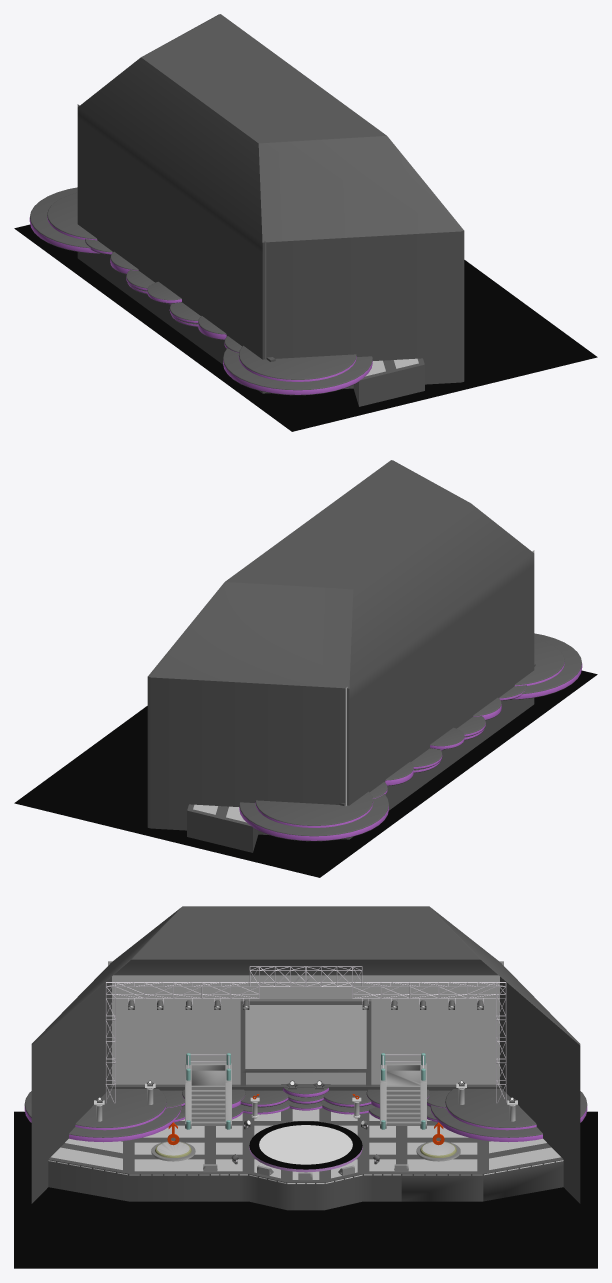
The picture shows the model from 3 angles, top to bottom: view 1: azimuth 30°, elevation 25°; view 2: azimuth 150°, elevation 25°; view 3: azimuth 270°, elevation 25°; orthographic projection. The views are drawn at different scales.
Visible parts, largest first — view 1: panggung, lantai, Cylinder.7, Cylinder.6, Cylinder.5_1, Cylinder_1; view 2: panggung, lantai, Cylinder.7, Cylinder.6, Cylinder.5_1, Cylinder_1; view 3: panggung, lantai, Plane, Cube.1_9, Cylinder.6, palang_putih, utama, Cylinder.7, Cube.1_3, Cube.2, pangung_kecil, Cylinder.5_1 (+2 smaller).
Part boxes in pixels (x1,y1,x2,y2): panggung: [77, 14, 464, 406]; lantai: [14, 224, 597, 431]; Cylinder.7: [29, 187, 372, 395]; Cylinder.6: [47, 192, 356, 381]; Cylinder.5_1: [126, 270, 200, 323]; Cylinder_1: [110, 251, 226, 339]; panggung: [147, 460, 535, 852]; lantai: [14, 670, 597, 877]; Cylinder.7: [239, 633, 582, 841]; Cylinder.6: [255, 638, 564, 827]; Cylinder.5_1: [411, 716, 485, 769]; Cylinder_1: [385, 697, 501, 785]; panggung: [31, 906, 580, 1210]; lantai: [14, 1111, 597, 1268]; Plane: [108, 961, 503, 1084]; Cube.1_9: [245, 1005, 366, 1068]; Cylinder.6: [75, 1089, 536, 1130]; palang_putih: [105, 966, 506, 1103]; utama: [249, 1121, 362, 1172]; Cylinder.7: [24, 1091, 587, 1142]; Cube.1_3: [185, 1063, 426, 1128]; Cube.2: [240, 999, 371, 1086]; pangung_kecil: [151, 1141, 460, 1161]; Cylinder.5_1: [240, 1090, 371, 1107].
Size of the model in its own units: 1524 by 986 by 2276.
